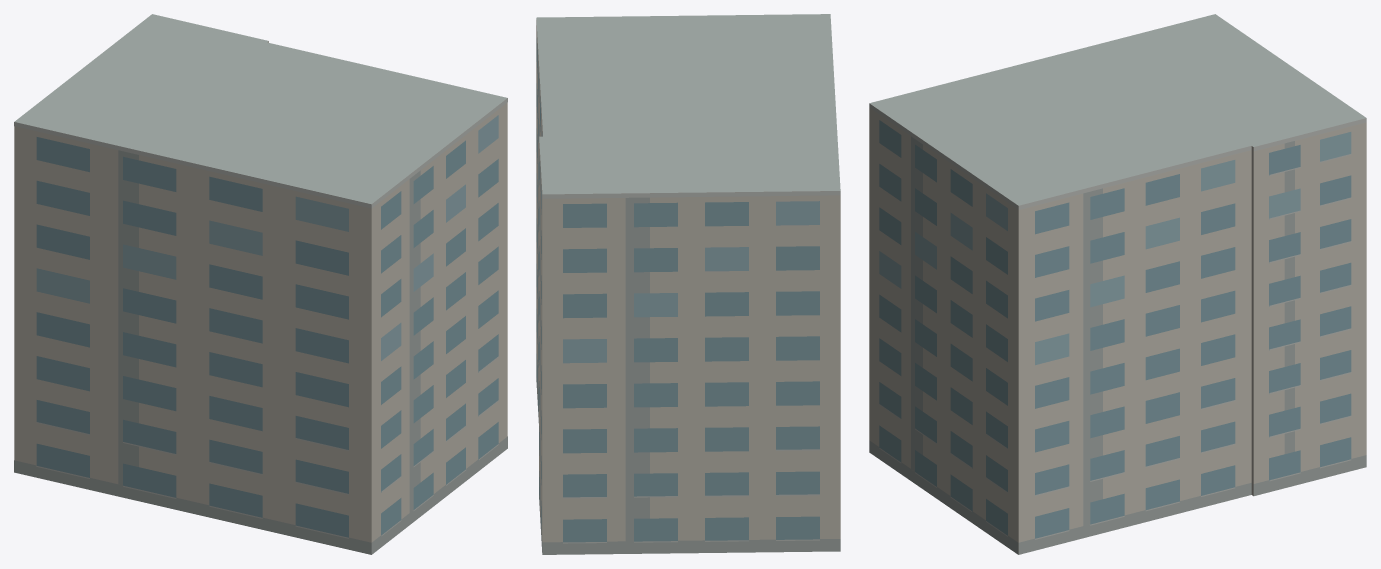
File: survey-upis-32548827.glb
3 renders of one model, left to right at view 1: azimuth 30°, elevation 25°; view 2: azimuth 150°, elevation 25°; view 3: azimuth 270°, elevation 25°, orthographic. The views are drawn at different scales.
Visible parts, largest first — view 1: survey-upis-32548827.tmp; view 2: survey-upis-32548827.tmp; view 3: survey-upis-32548827.tmp.
Part boxes in pixels (x1,y1,x2,y2): survey-upis-32548827.tmp: [14, 14, 507, 554]; survey-upis-32548827.tmp: [536, 14, 840, 554]; survey-upis-32548827.tmp: [869, 14, 1366, 554].
Bounding box in the file's own units: 23.34 × 19.8 × 25.58.
